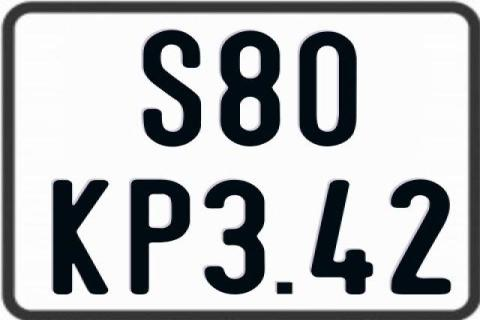0: (309, 178, 375, 294), (205, 177, 270, 293), (389, 179, 453, 295), (220, 31, 280, 150), (299, 31, 357, 149)
K: (53, 178, 110, 294)
P: (130, 178, 192, 298)
S: (141, 29, 200, 150)
